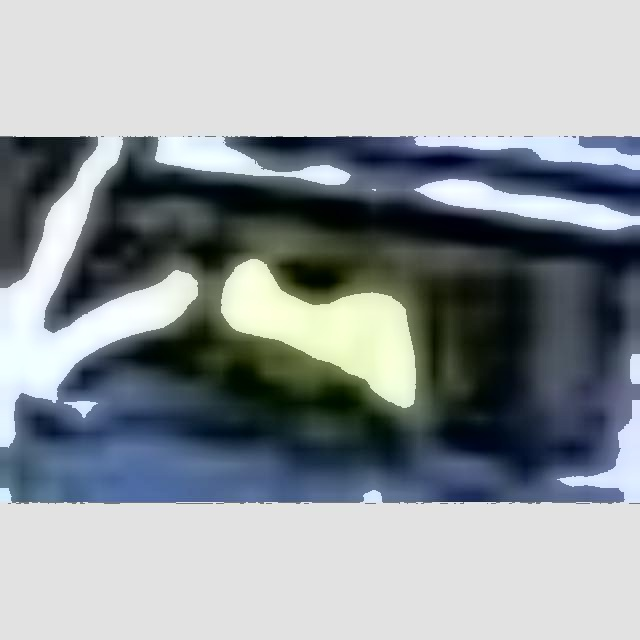tidak-pakai: (198, 213, 411, 427)
